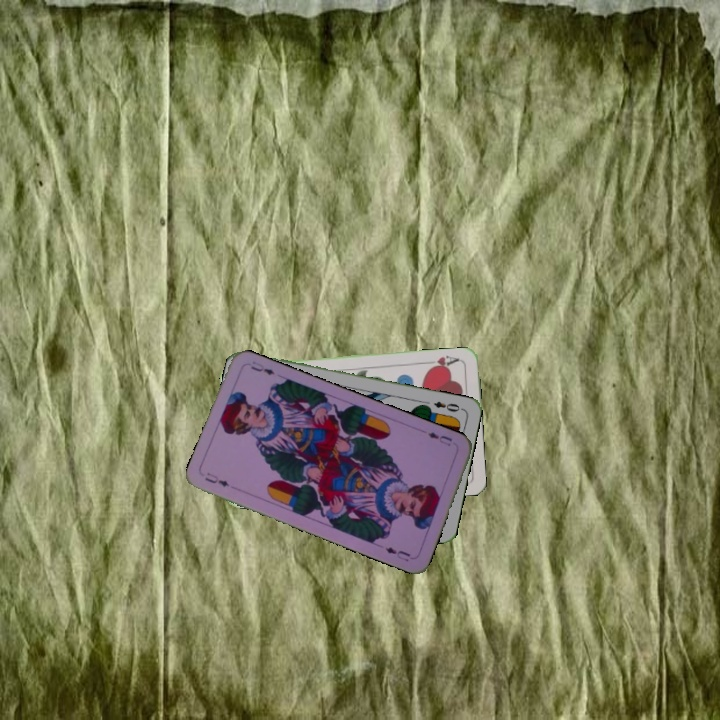EO: (430, 397, 465, 414)
EU: (201, 468, 232, 490), (424, 428, 455, 449)
HA: (422, 352, 463, 372)
